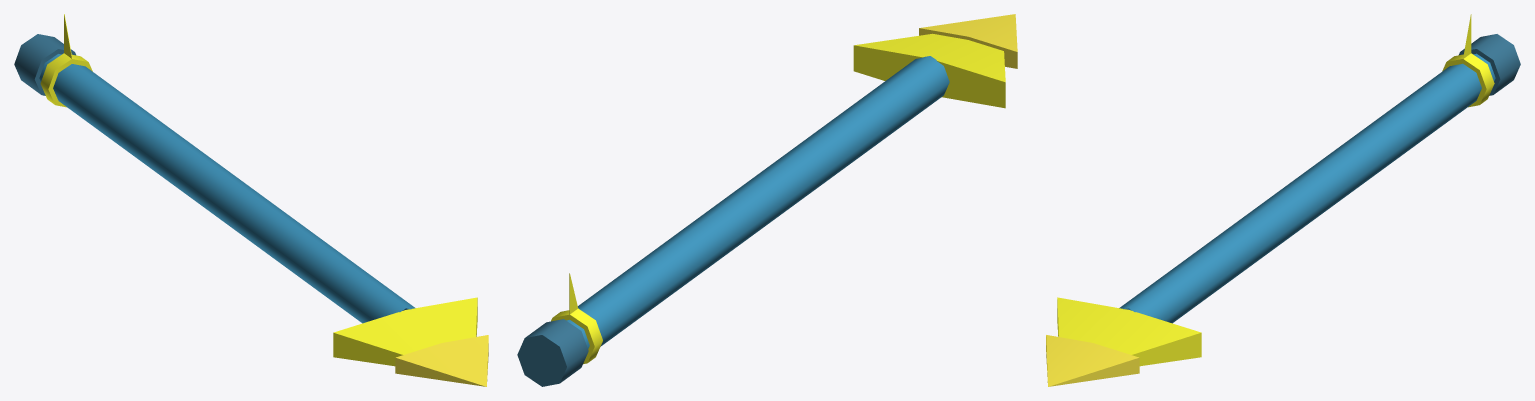
Rendered from arrow3.fbx.
3 renders of one model, left to right at view 1: azimuth 30°, elevation 25°; view 2: azimuth 150°, elevation 25°; view 3: azimuth 330°, elevation 25°, orthographic. The views are drawn at different scales.
Parts seen in each view (by area): view 1: arrow3; view 2: arrow3; view 3: arrow3.
Boxes of the visible parts, box(x1,y1,x2,y2) form: arrow3: box(14, 14, 488, 386); arrow3: box(517, 14, 1017, 386); arrow3: box(1046, 14, 1520, 386).
Size of the model in its own units: 0.4895 by 0.2872 by 2.64.
1 material, 1 textured.
